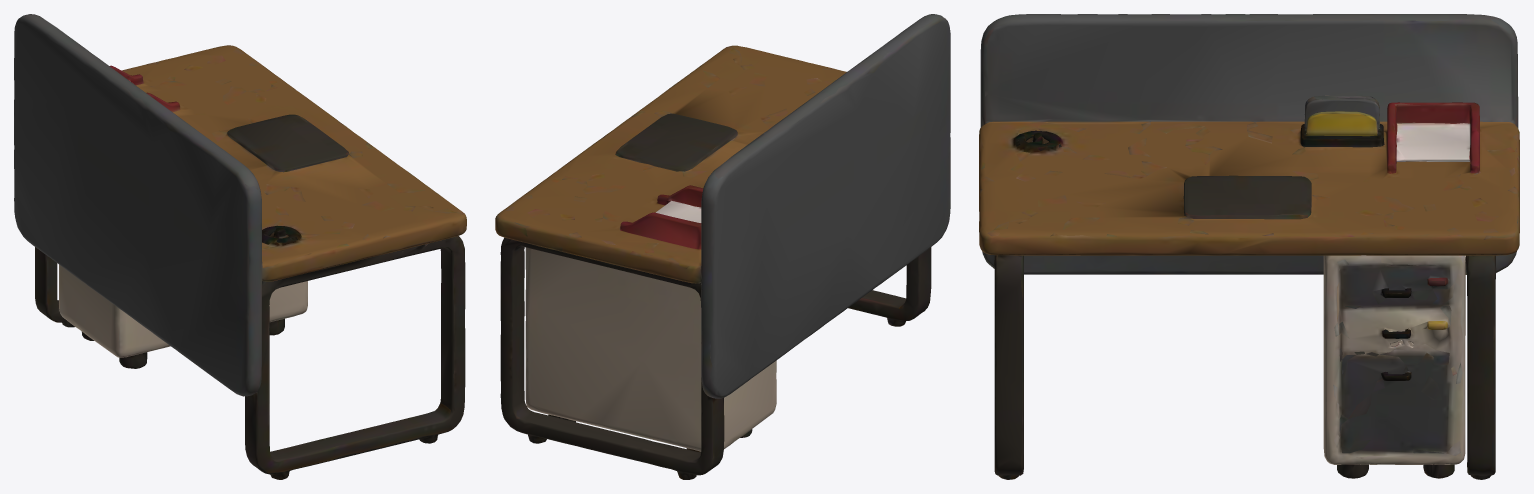
The model's file is desk.glb.
The picture shows the model from 3 angles, left to right: view 1: azimuth 30°, elevation 25°; view 2: azimuth 150°, elevation 25°; view 3: azimuth 270°, elevation 25°; orthographic projection. The views are drawn at different scales.
Parts seen in each view (by area): view 1: geometry_0; view 2: geometry_0; view 3: geometry_0.
Boxes of the visible parts, x1,y1,x2,y2 form: geometry_0: (14, 14, 466, 479); geometry_0: (495, 14, 950, 479); geometry_0: (979, 14, 1519, 479).
Bounding box in the file's own units: 0.5438 × 0.7353 × 1.
1 material, 1 textured.
